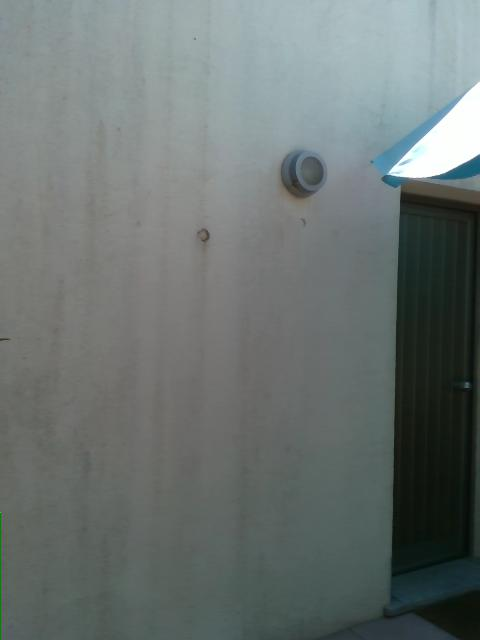closed_door: (392, 188, 477, 576)
